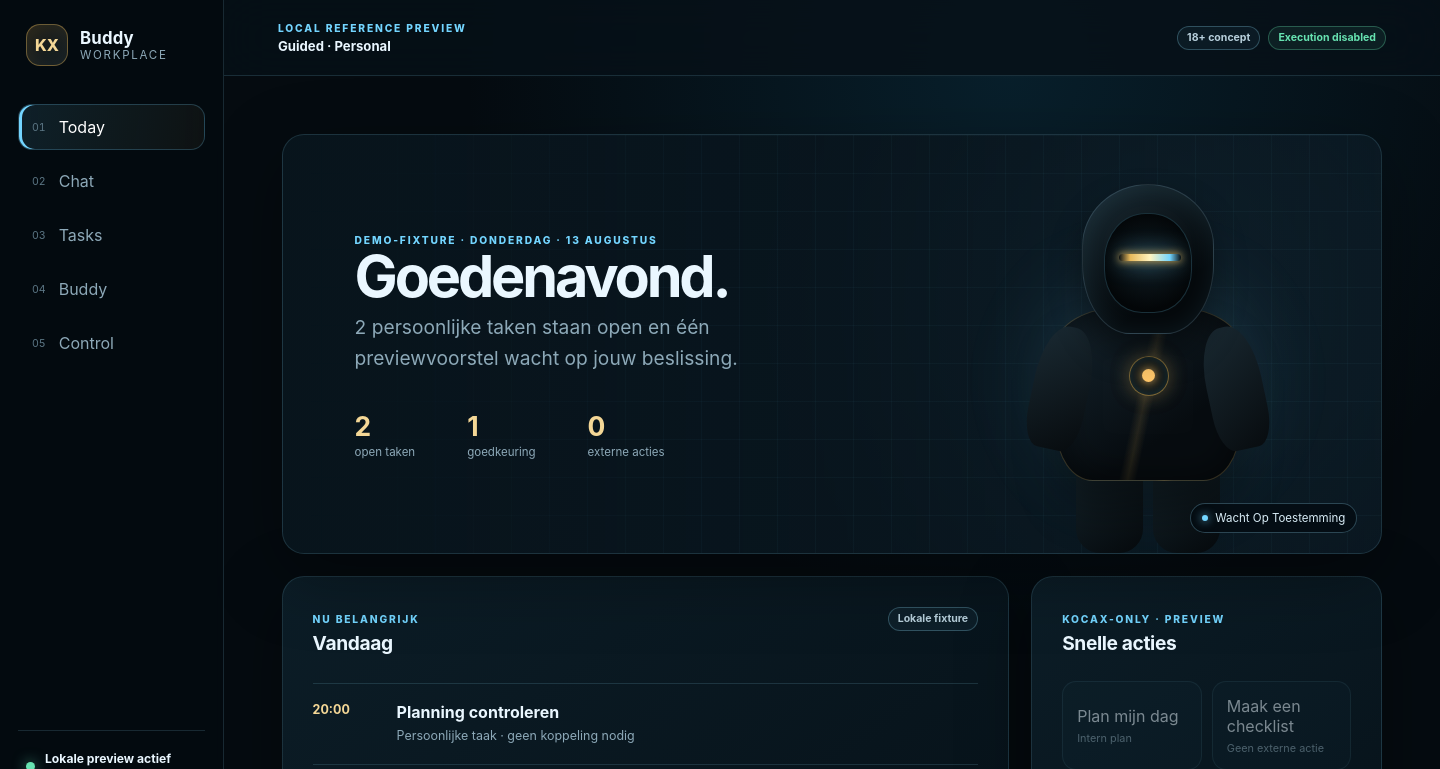
Buddy Workplace preview › shows truthful Buddy AI security wording
The image size is (1440, 769).
Click the button named "02chat".
click(112, 181)  # box [18,158,205,204]
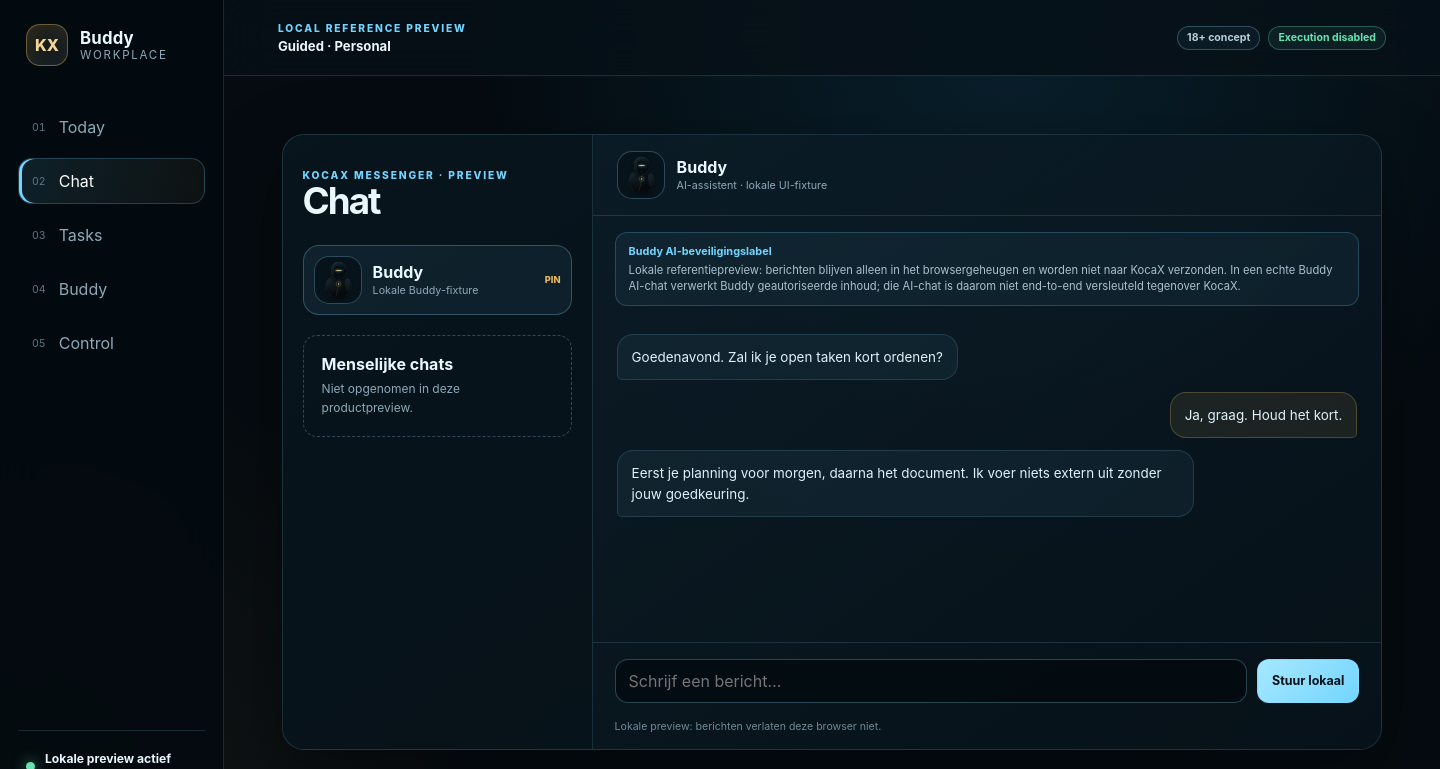
Now the element that starts with "Buddy AI-beveiligingslabel" shows "niet end-to-end versleuteld tegenover KocaX", box [629,263,1332,293]
Now the element that starts with "Buddy AI-beveiligingslabel" shows "browsergeheugen", box [629,263,1332,293]
Now the text "KOCAX MESSENGER · PREVIEW" is shown, box [303,169,509,181]
